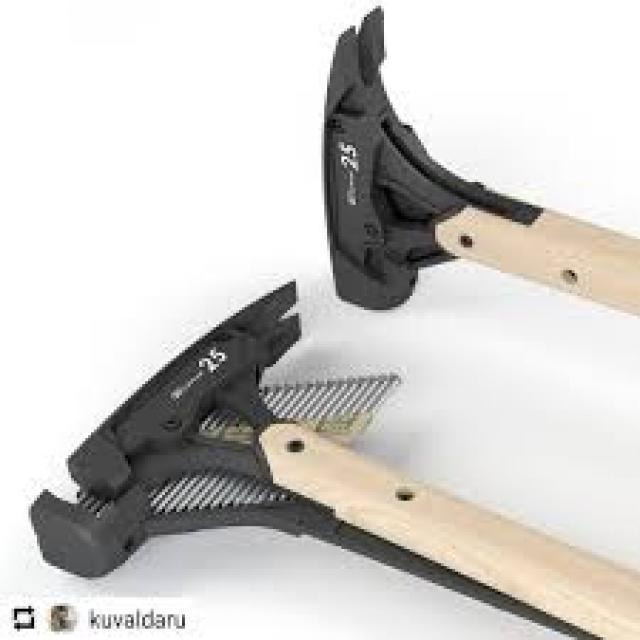hammer: (20, 261, 640, 640), (301, 2, 640, 392)
